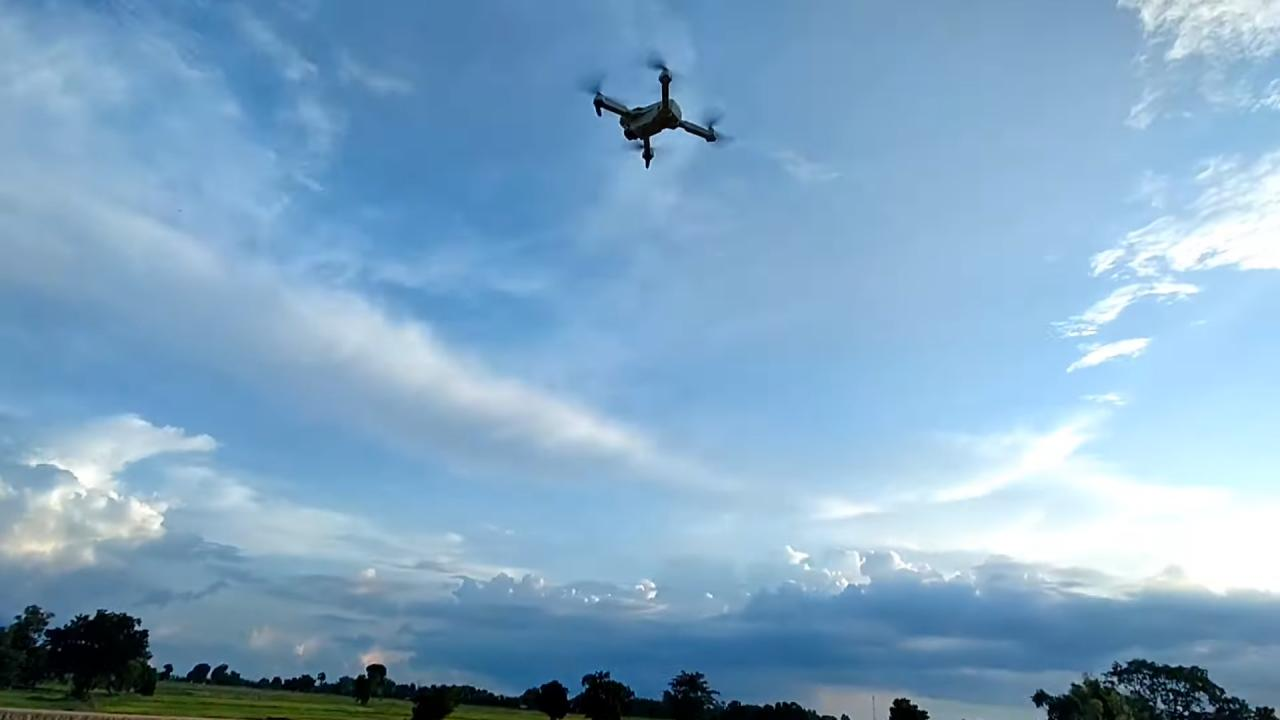Drone: (576, 54, 737, 178)
